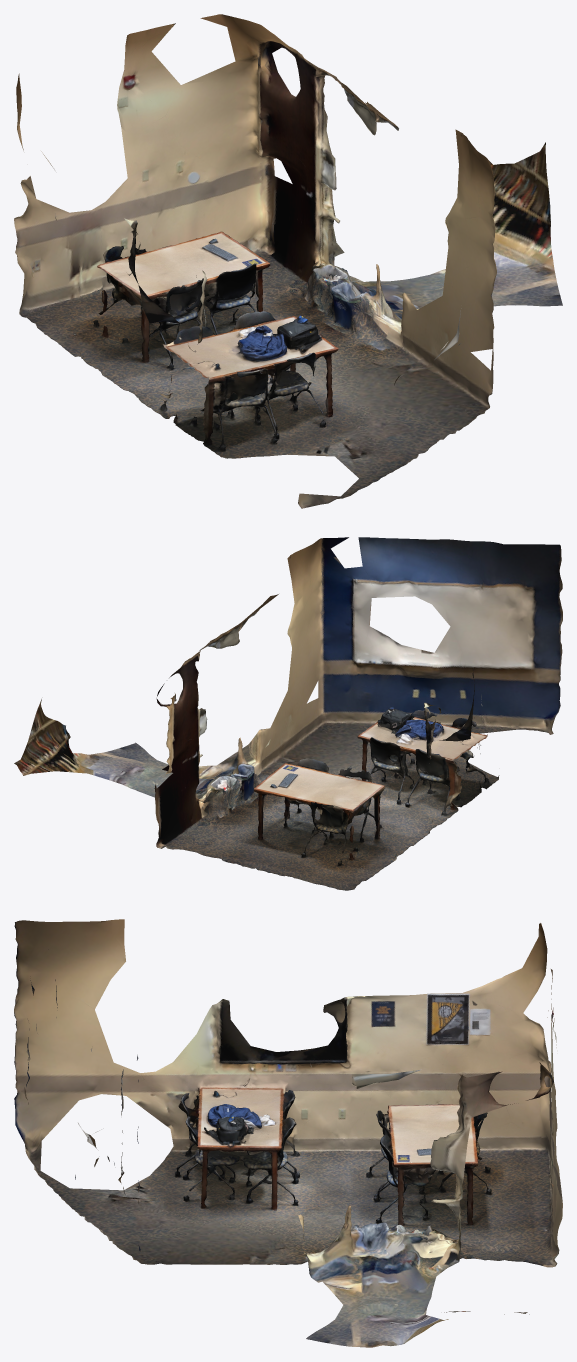
3 renders of one model, top to bottom at view 1: azimuth 30°, elevation 25°; view 2: azimuth 150°, elevation 25°; view 3: azimuth 270°, elevation 25°, orthographic. The views are drawn at different scales.
Parts seen in each view (by area): view 1: Object_4; view 2: Object_4; view 3: Object_4.
Boxes of the visible parts, x1=… form: Object_4: x1=14, y1=14, x2=562, y2=508; Object_4: x1=14, y1=537, x2=562, y2=890; Object_4: x1=14, y1=919, x2=562, y2=1347.
Bounding box in the file's own units: 3.76 × 1.88 × 3.96.
Materials: 1 (1 with a texture image).
